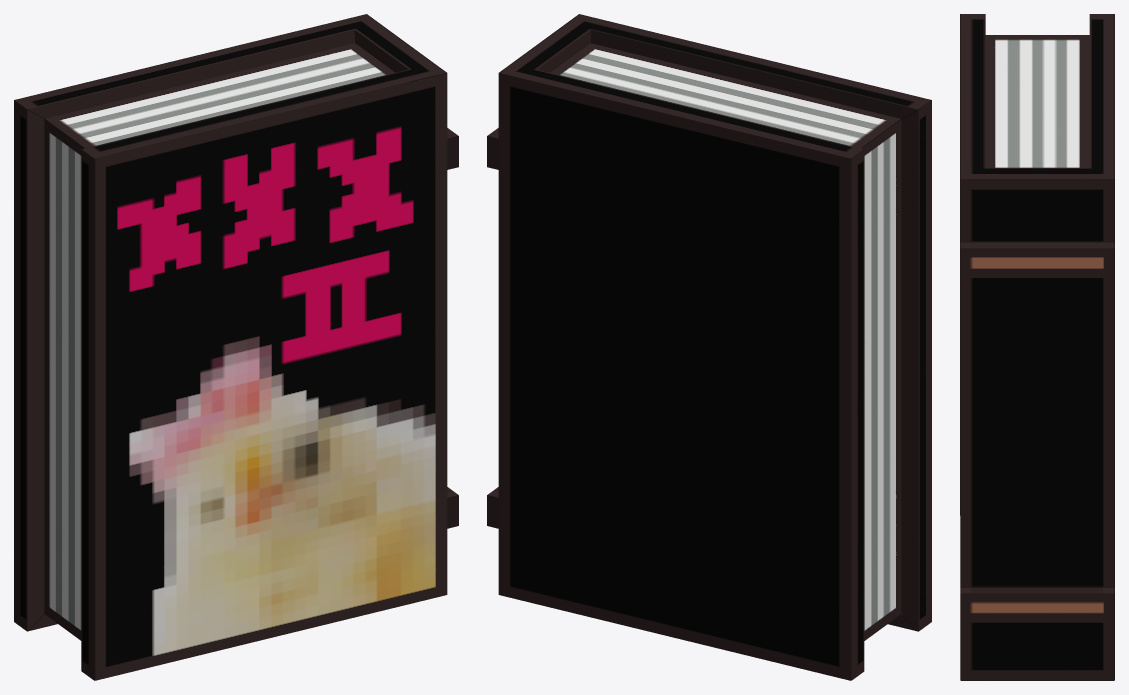
Rendered from badbook.fbx.
The picture shows the model from 3 angles, left to right: view 1: azimuth 30°, elevation 25°; view 2: azimuth 150°, elevation 25°; view 3: azimuth 270°, elevation 25°; orthographic projection. The views are drawn at different scales.
Visible parts, largest first — view 1: Cube.004; view 2: Cube.004; view 3: Cube.004.
Part boxes in pixels (x1=…): Cube.004: x1=14, y1=14, x2=458, y2=680; Cube.004: x1=487, y1=14, x2=931, y2=680; Cube.004: x1=960, y1=14, x2=1114, y2=680.
Size of the model in its own units: 146 by 200 by 55.98.
